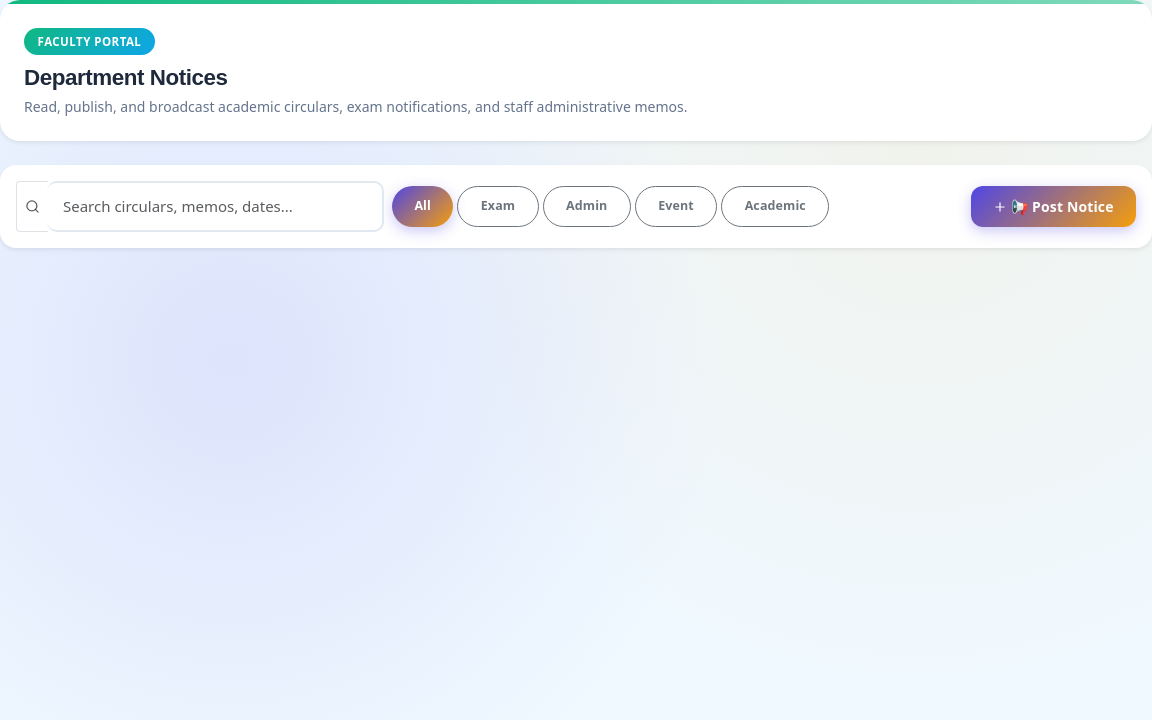
Test: FacultyDepartmentNotices Component Tests › composes and posts a new notice with toast notification
The image size is (1152, 720).
Step 1. Click the button with test id "open-compose-notice-btn" → (1053, 207), box [971,186,1136,228]
(page scrolled)
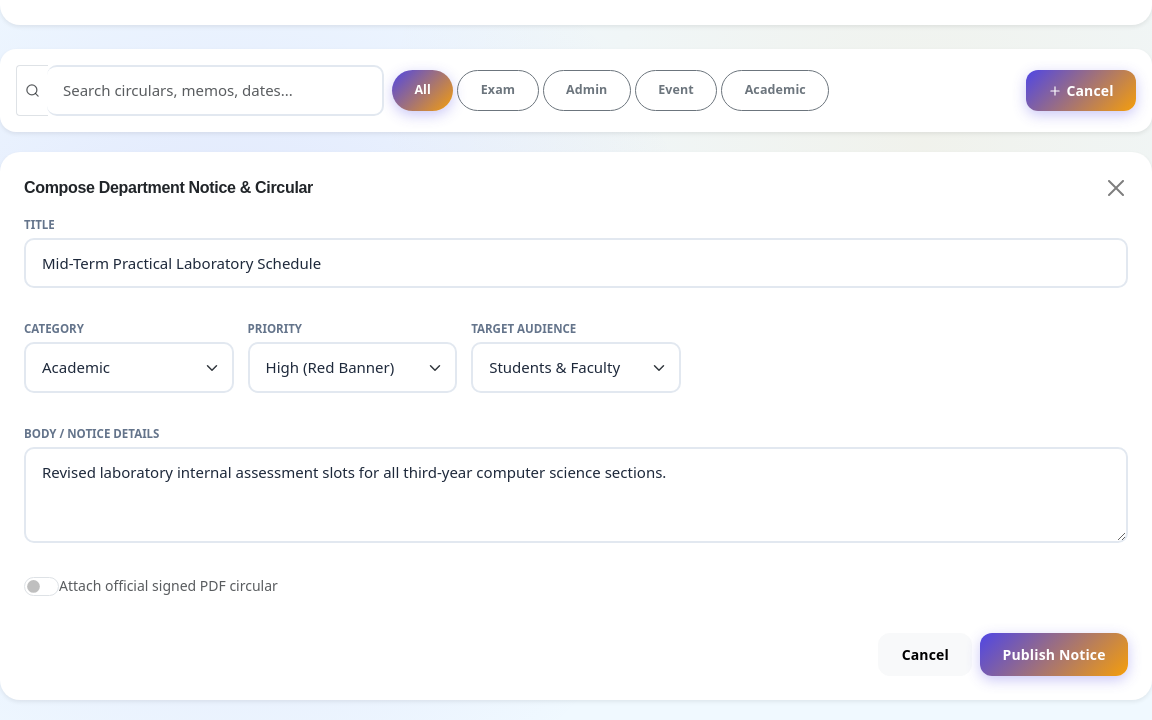
Expected: the form with test id "compose-notice-form" is shown
Step 2. Click the button with test id "submit-notice-btn" → (1054, 654), box [980,632,1128,676]
(page scrolled)
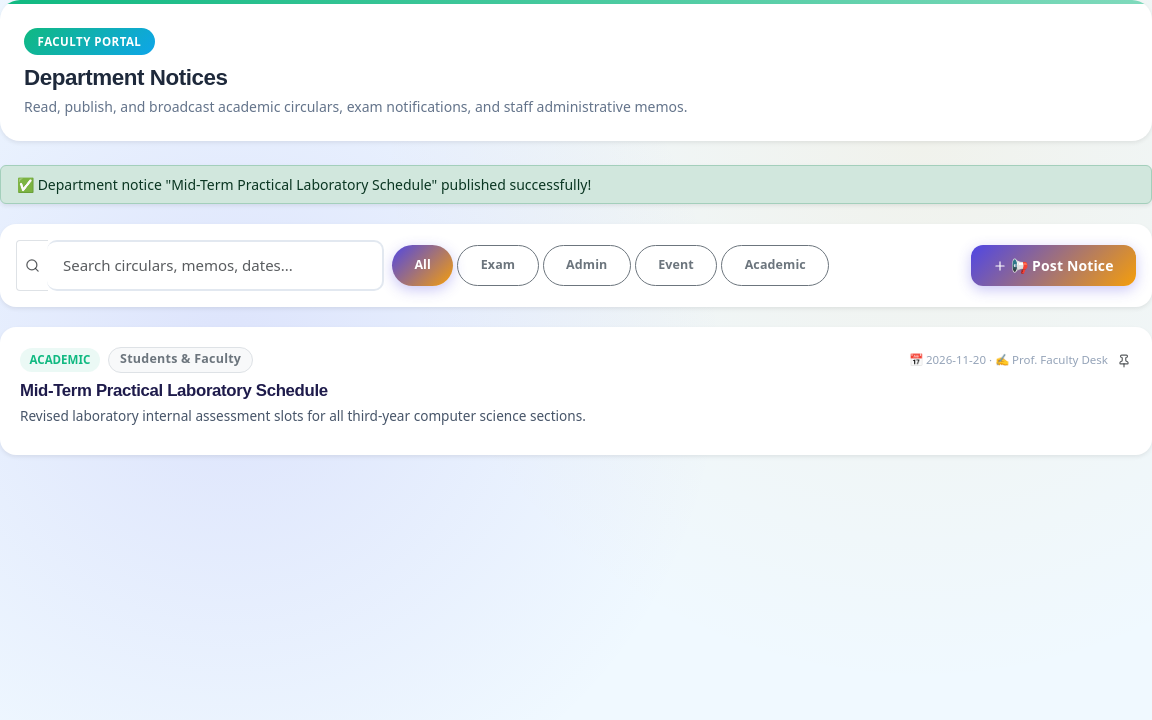
Expected: the message with test id "notice-toast" is shown, [0,165,1151,204]
Expected: the text "published successfully!" is shown, [38,175,591,194]
